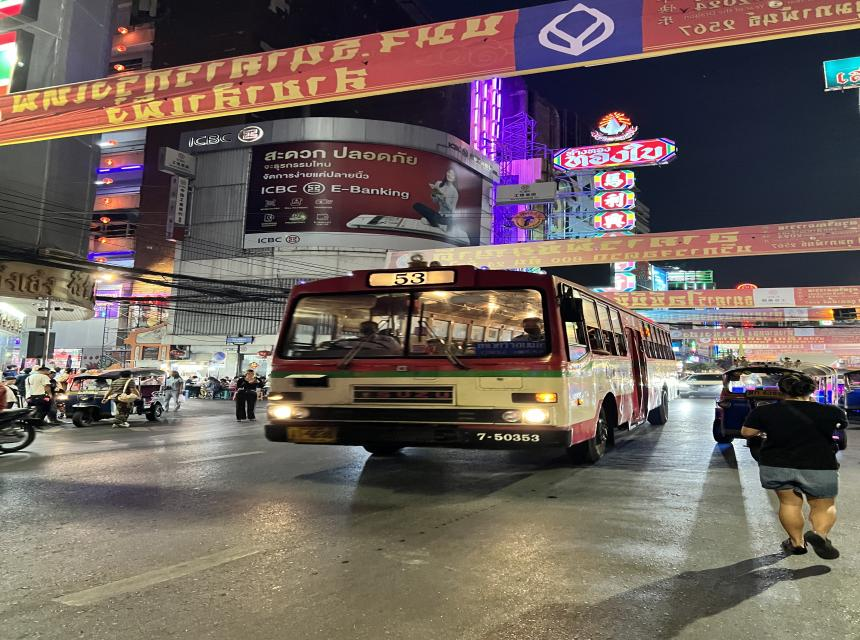BMTA-bus: (261, 267, 674, 465)
Bus Line Number: (368, 272, 456, 286)
Bus Side Number: (470, 430, 545, 445)
Destination Sign: (471, 341, 548, 358)
